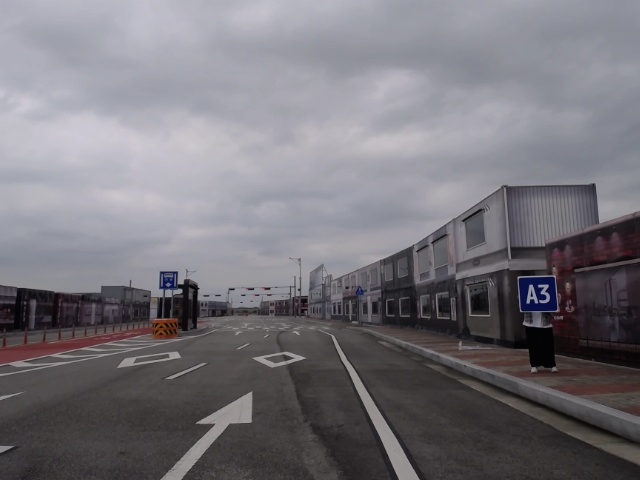delivery_a3: (518, 275, 558, 312)
